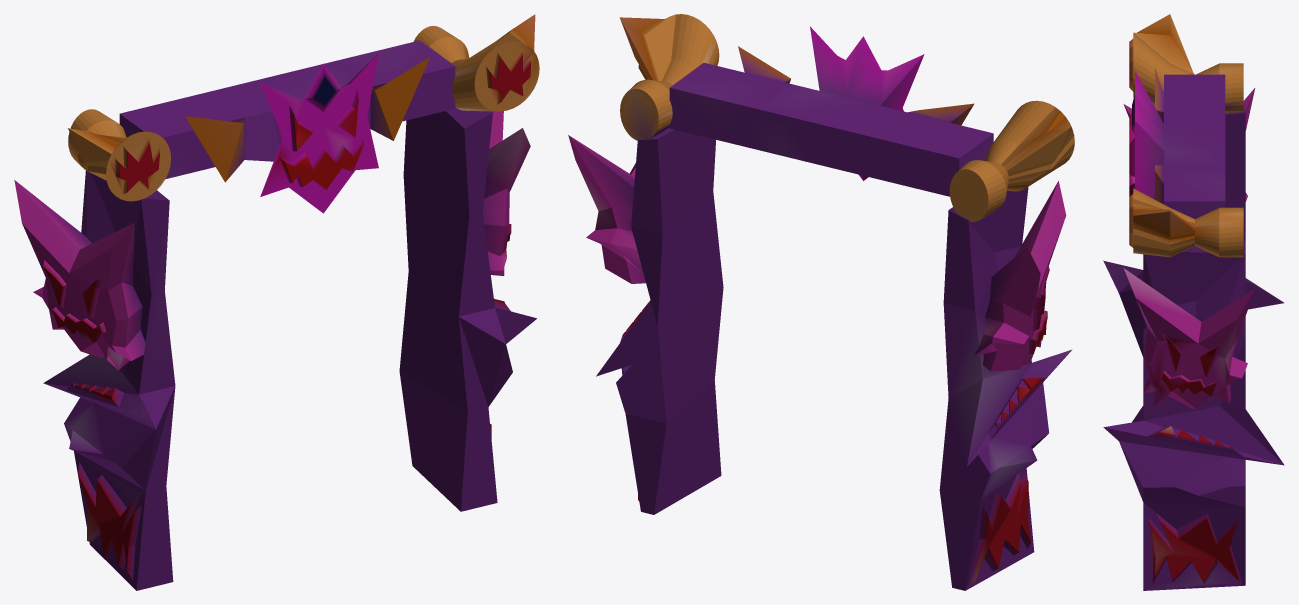
Rendered from gateOfHell.glb.
3 renders of one model, left to right at view 1: azimuth 30°, elevation 25°; view 2: azimuth 150°, elevation 25°; view 3: azimuth 270°, elevation 25°, orthographic. The views are drawn at different scales.
Visible parts, largest first — view 1: Cylinder; view 2: Cylinder; view 3: Cylinder.
Part boxes in pixels (<box>): Cylinder: <box>14,14,539,590</box>; Cylinder: <box>568,14,1074,590</box>; Cylinder: <box>1103,14,1284,590</box>.
Size of the model in its own units: 3.83 by 3.69 by 1.44.
